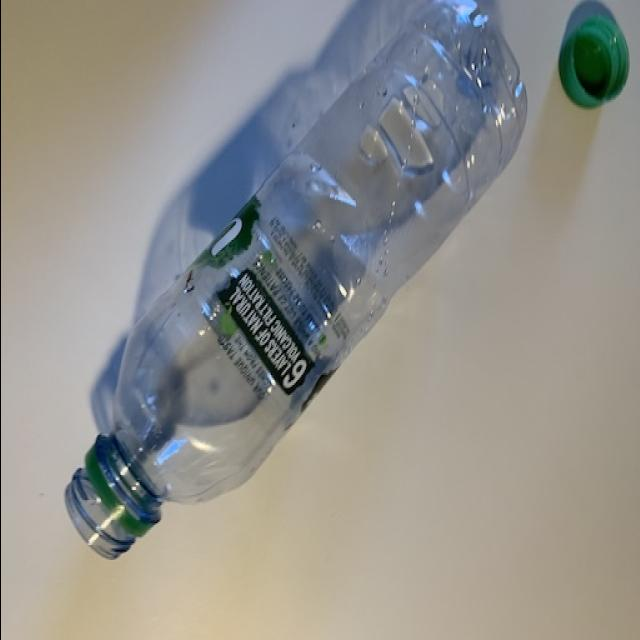litter: (65, 0, 527, 562)
